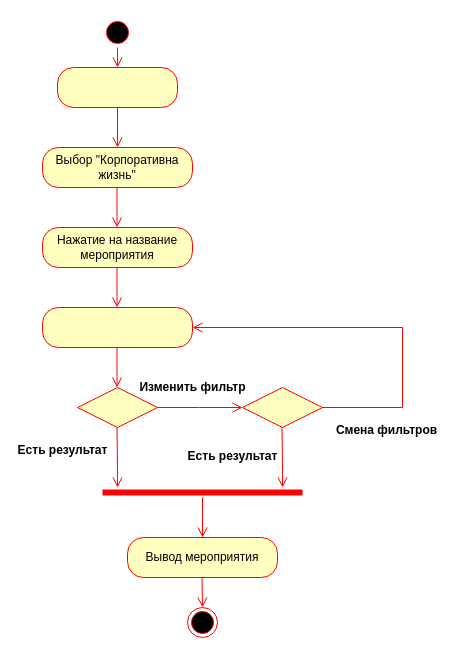
The diagram is 454 pixels wide and 655 high, and some of its shapes have lost their labels. The shapes that lost their labels are listed below. From the top down, each one's centre as x and y in pixels, then its label:
point (117, 87): Захождение на сайт
point (117, 327): Выбор фильтров в календаре мероприятий
